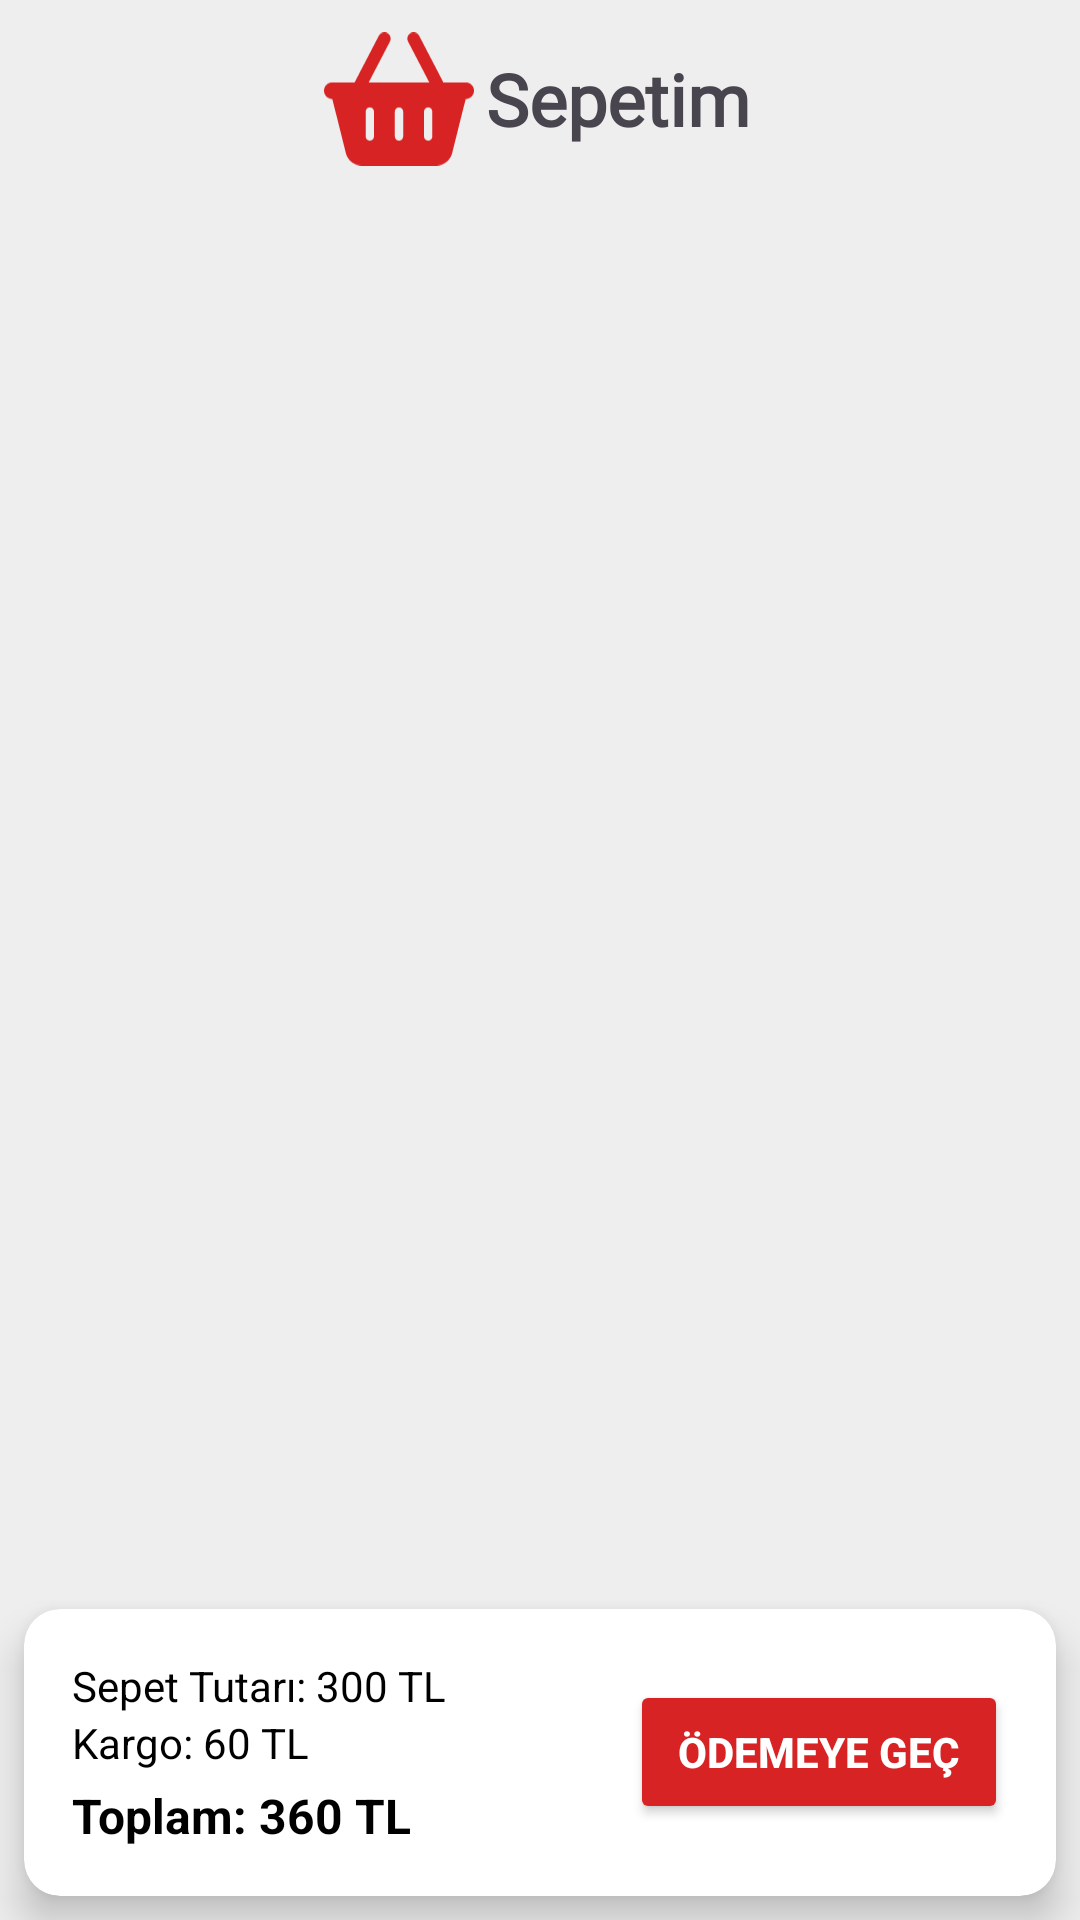

Point at icon controls on the screen. Image size 1080 × 1920, points as [x,y].
cart: [399,99]
